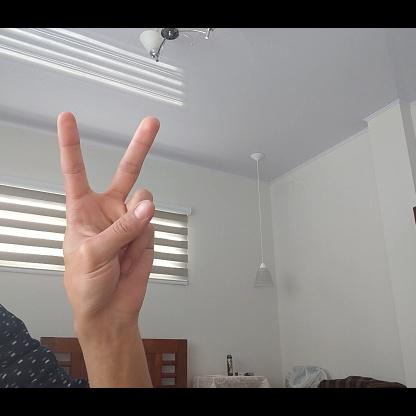V: (57, 107, 161, 327)
